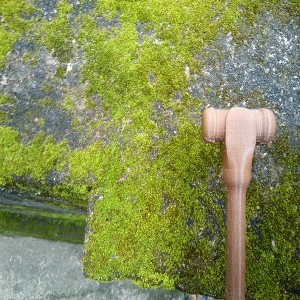palu: (201, 105, 277, 300)
